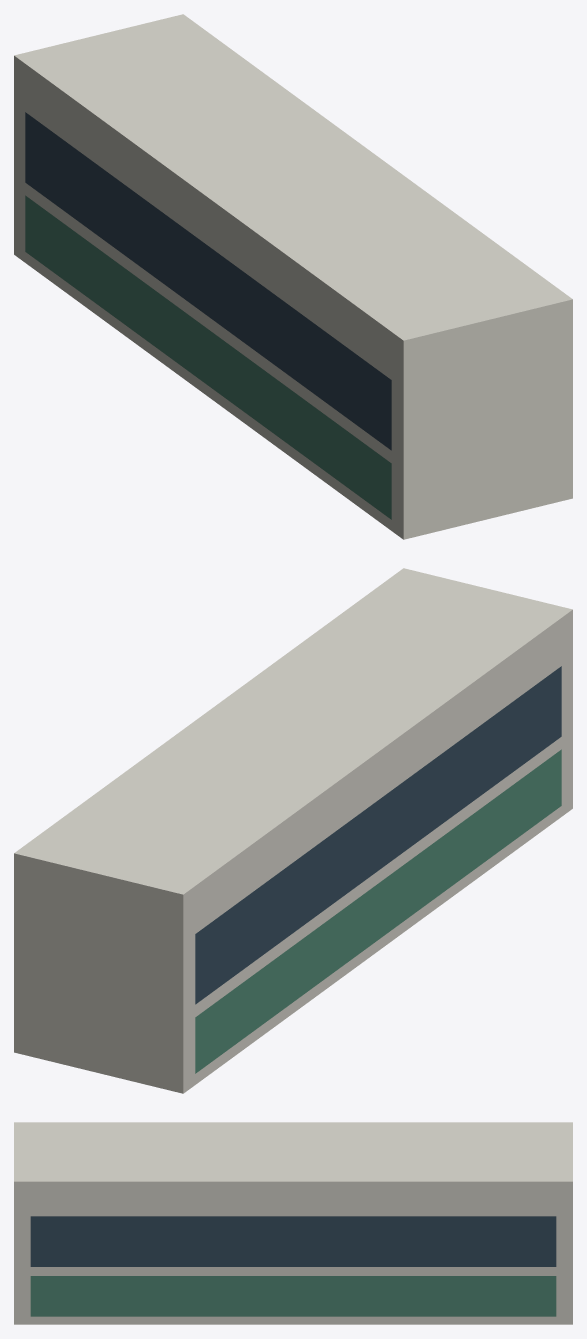
File: 313_far.fbx
3 renders of one model, top to bottom at view 1: azimuth 30°, elevation 25°; view 2: azimuth 150°, elevation 25°; view 3: azimuth 270°, elevation 25°, orthographic. The views are drawn at different scales.
Visible parts, largest first — view 1: 313_far; view 2: 313_far; view 3: 313_far.
Part boxes in pixels (x1=…): 313_far: x1=14, y1=14, x2=572, y2=539; 313_far: x1=14, y1=568, x2=572, y2=1093; 313_far: x1=14, y1=1122, x2=572, y2=1324.
Size of the model in its own units: 2.52 by 2.82 by 10.
